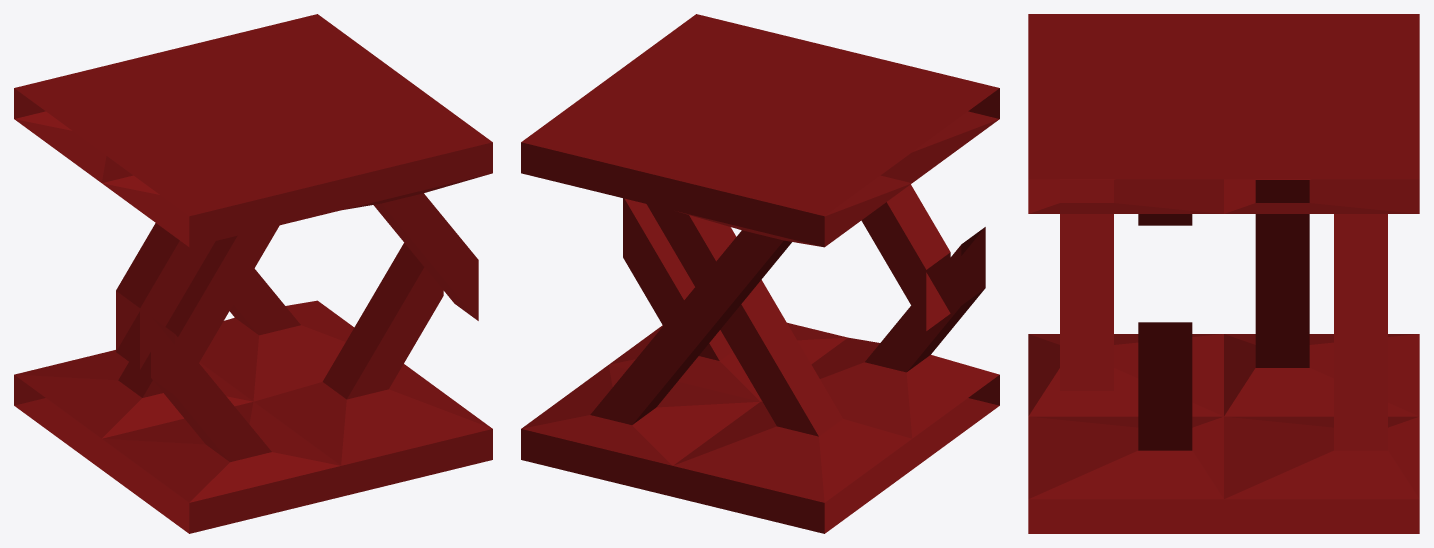
File: strut.FBX
3 views of the same model, side by side, from view 1: azimuth 30°, elevation 25°; view 2: azimuth 150°, elevation 25°; view 3: azimuth 270°, elevation 25° (orthographic). The views are drawn at different scales.
Visible parts, largest first — view 1: Box002; view 2: Box002; view 3: Box002.
Boxes of the visible parts, bbox=[...] form: Box002: bbox=[14, 14, 492, 533]; Box002: bbox=[521, 14, 999, 533]; Box002: bbox=[1028, 14, 1419, 533].
Bounding box in the file's own units: 100 × 100 × 100.
